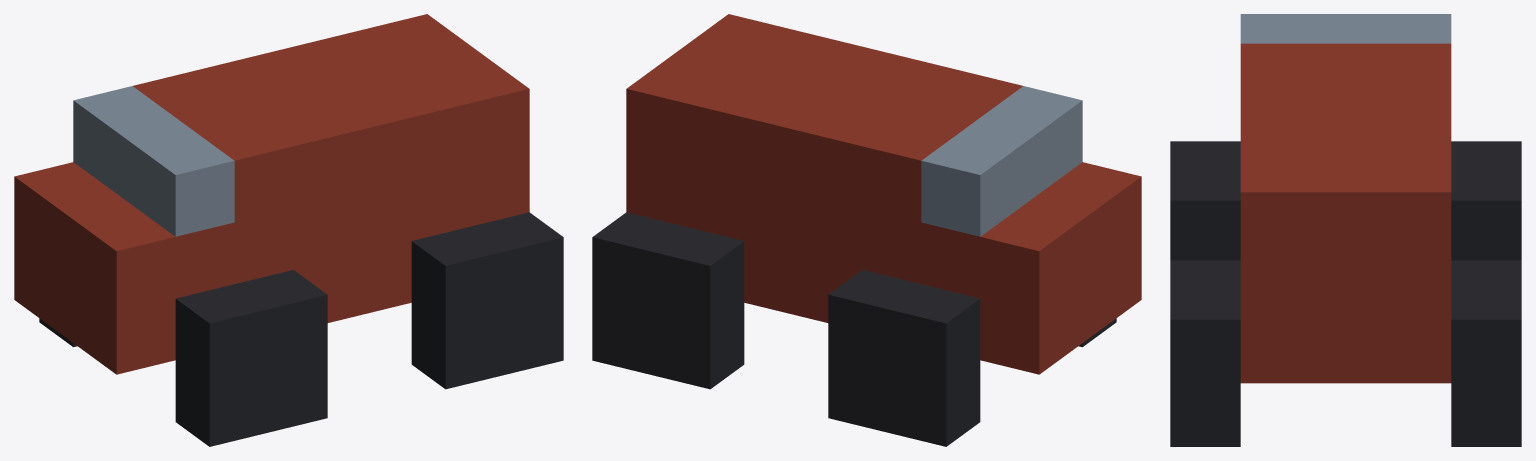
File: pixel car.fbx
3 views of the same model, side by side, from view 1: azimuth 30°, elevation 25°; view 2: azimuth 150°, elevation 25°; view 3: azimuth 270°, elevation 25° (orthographic). The views are drawn at different scales.
Visible parts, largest first — view 1: pixel CAR; view 2: pixel CAR; view 3: pixel CAR.
Part boxes in pixels (x1,y1,x2,y2): pixel CAR: (14,14,563,446); pixel CAR: (592,14,1141,446); pixel CAR: (1170,14,1521,446).
Bounding box in the file's own units: 1400 × 800 × 1000.
